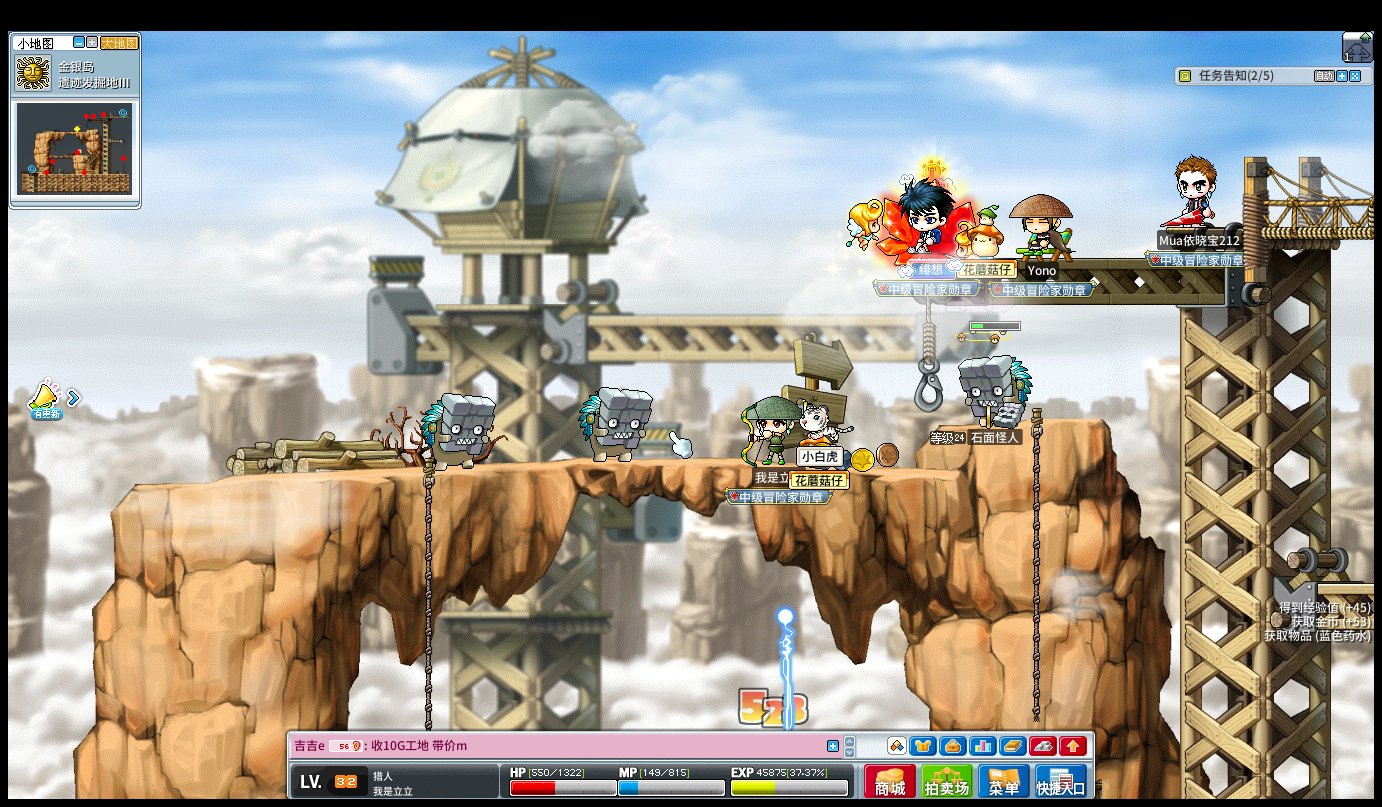floor: (120, 455, 991, 481), (911, 250, 1251, 268), (1033, 414, 1107, 430)
monster: (959, 352, 1033, 433), (419, 392, 495, 470), (579, 384, 653, 462)
rope: (1027, 412, 1043, 732), (419, 454, 435, 727), (920, 298, 934, 368)
